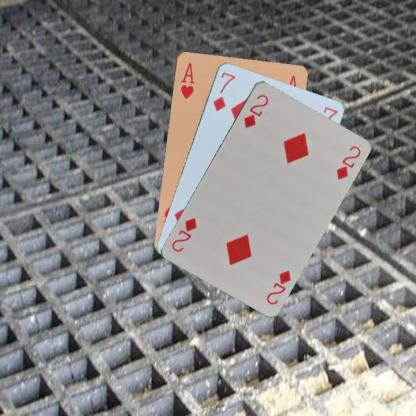2d: (263, 267, 292, 306), (241, 92, 270, 130)
7d: (210, 69, 236, 112)
Ah: (177, 60, 196, 100)
